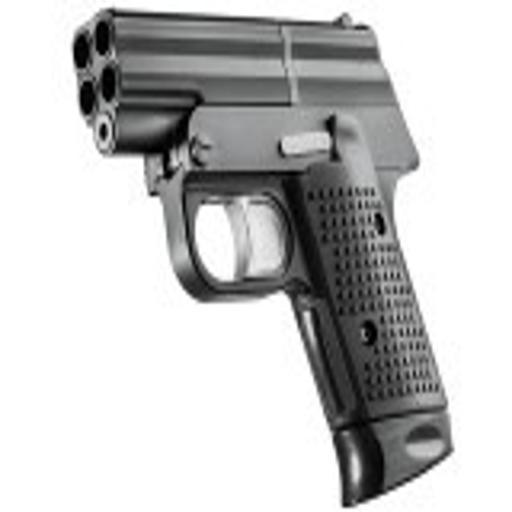Handgun: (69, 3, 463, 506)
